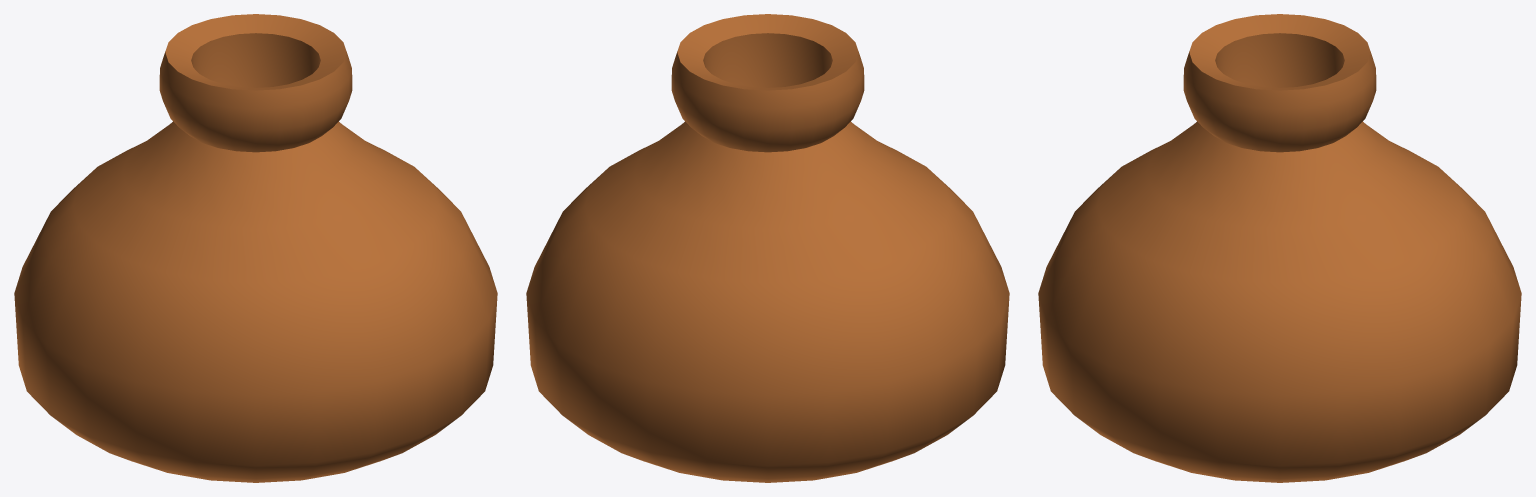
The model's file is potC.obj.
The picture shows the model from 3 angles, left to right: view 1: azimuth 30°, elevation 25°; view 2: azimuth 150°, elevation 25°; view 3: azimuth 270°, elevation 25°; orthographic projection.
Parts seen in each view (by area): view 1: potC_Cylinder.018; view 2: potC_Cylinder.018; view 3: potC_Cylinder.018.
Part boxes in pixels (x1,y1,x2,y2): potC_Cylinder.018: (14,14,497,482); potC_Cylinder.018: (526,14,1009,482); potC_Cylinder.018: (1038,14,1521,482).
Size of the model in its own units: 1.12 by 0.911 by 1.12.
